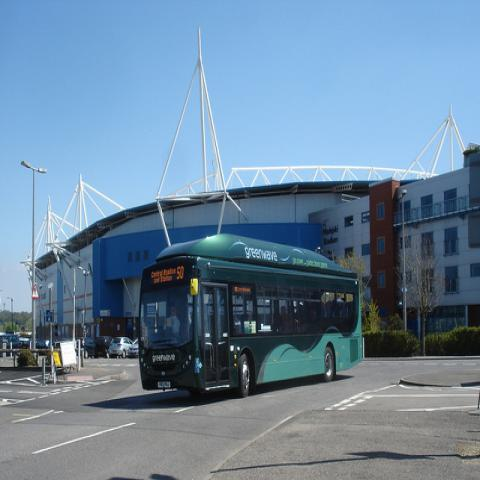bus: (138, 233, 363, 404)
car: (108, 336, 133, 359), (94, 336, 113, 359), (75, 337, 95, 358), (0, 334, 23, 348), (127, 338, 139, 358), (35, 338, 49, 349)
